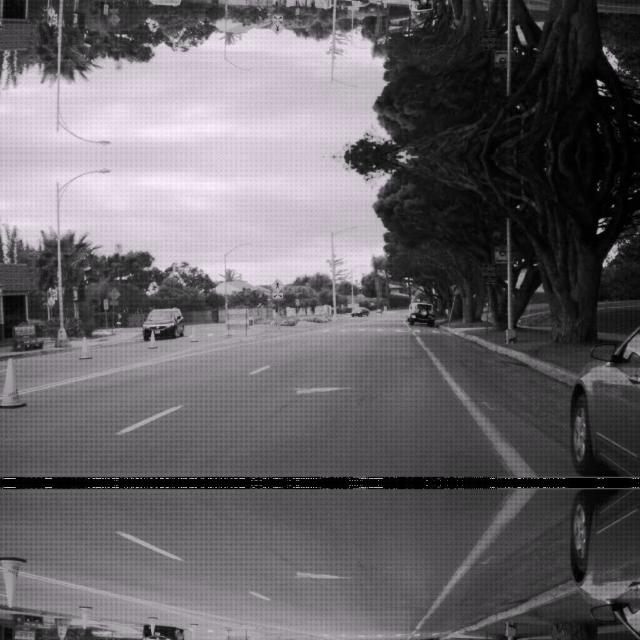pedestrianCrossing: (268, 278, 284, 292), (268, 20, 284, 34)
